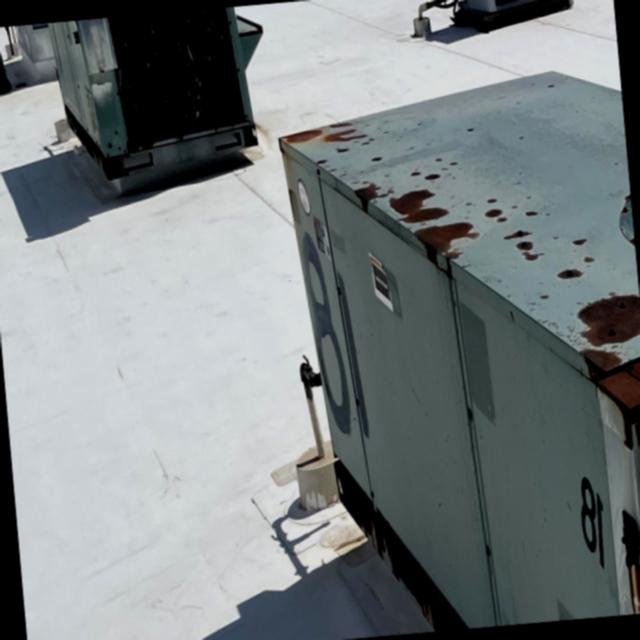RTU: (273, 60, 640, 640), (48, 4, 276, 186)
